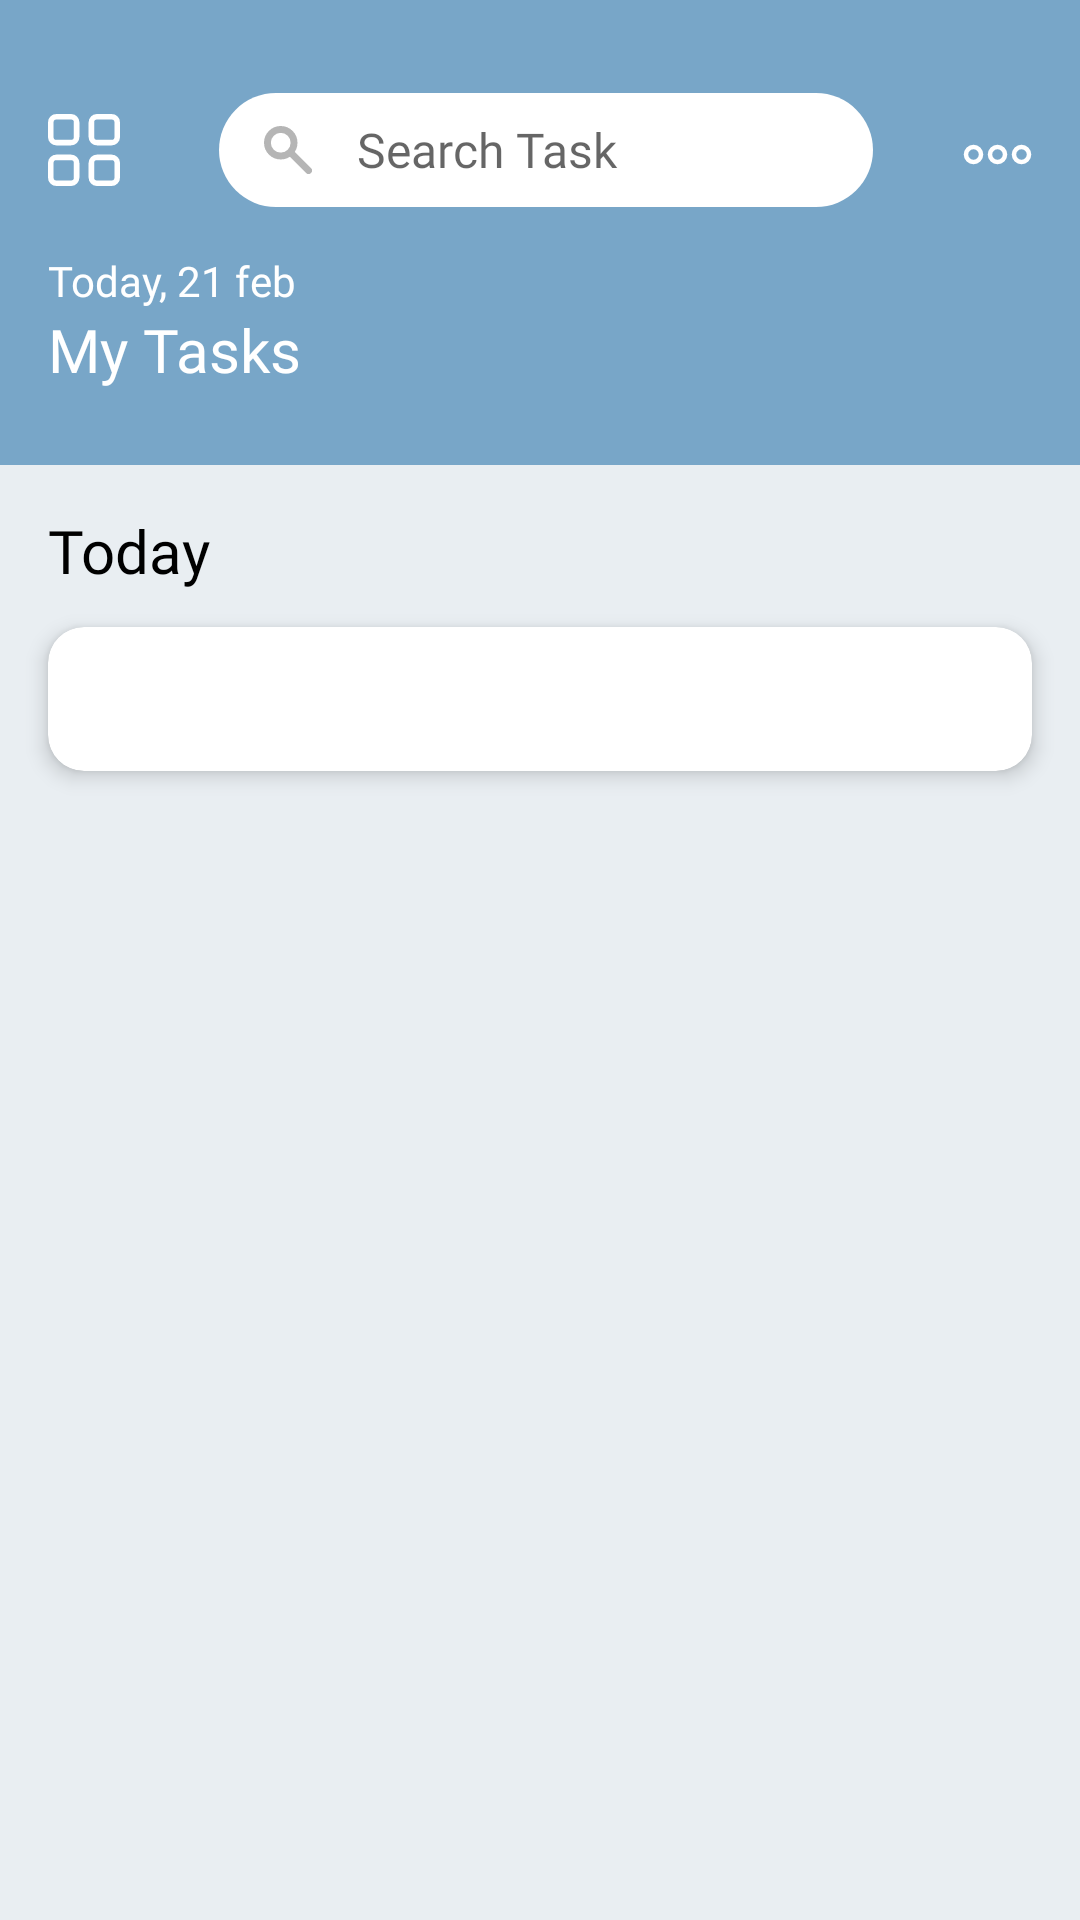

Icons on this 1080px×1920px Android screen, each with its box as detection(x1, y1, x2, y2):
dashboard: detection(48, 114, 120, 186)
